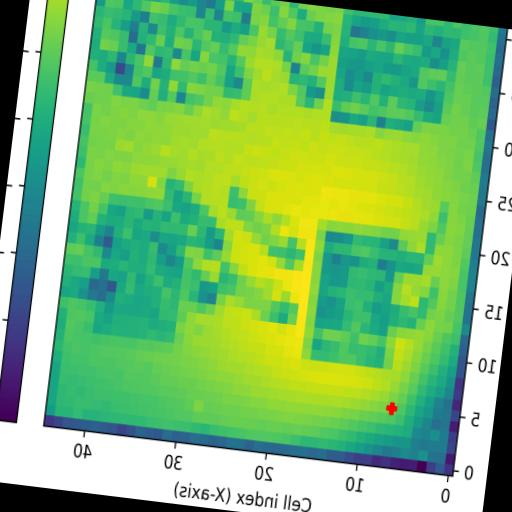Concrete: (111, 0, 235, 107)
Glass: (331, 9, 426, 132)
Metal: (92, 194, 190, 342)
Wood: (302, 230, 408, 370)
